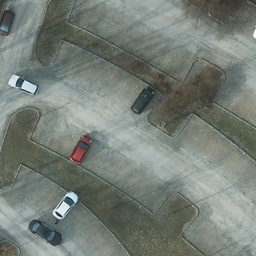car: (27, 219, 62, 245), (7, 73, 39, 97), (53, 190, 77, 220), (131, 86, 155, 114), (70, 134, 91, 164), (1, 10, 14, 37)
